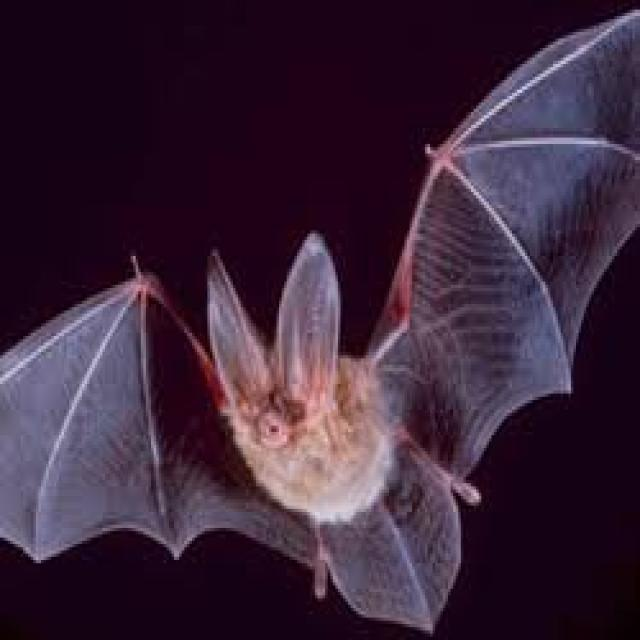Bat: (0, 13, 632, 605)
